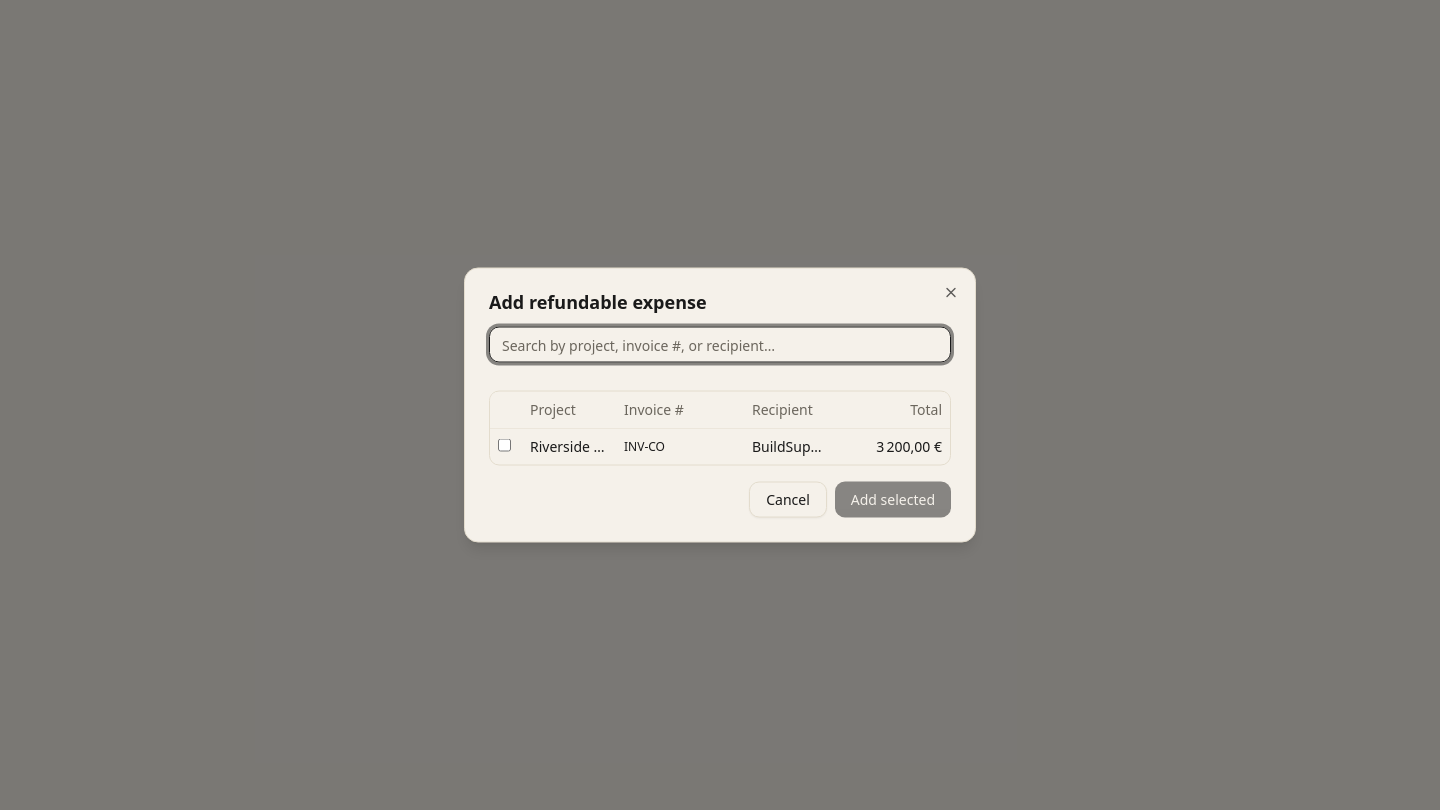
Scenario: AddRefundableExpenseDialog › company-paid expense: says why, drops it from the picker, no 'try again'
Expected: the text "INV-CO" is shown, [616,428,744,464]
Click the checkbox named "INV-CO" at coordinates (504, 445), box [498,438,511,452]
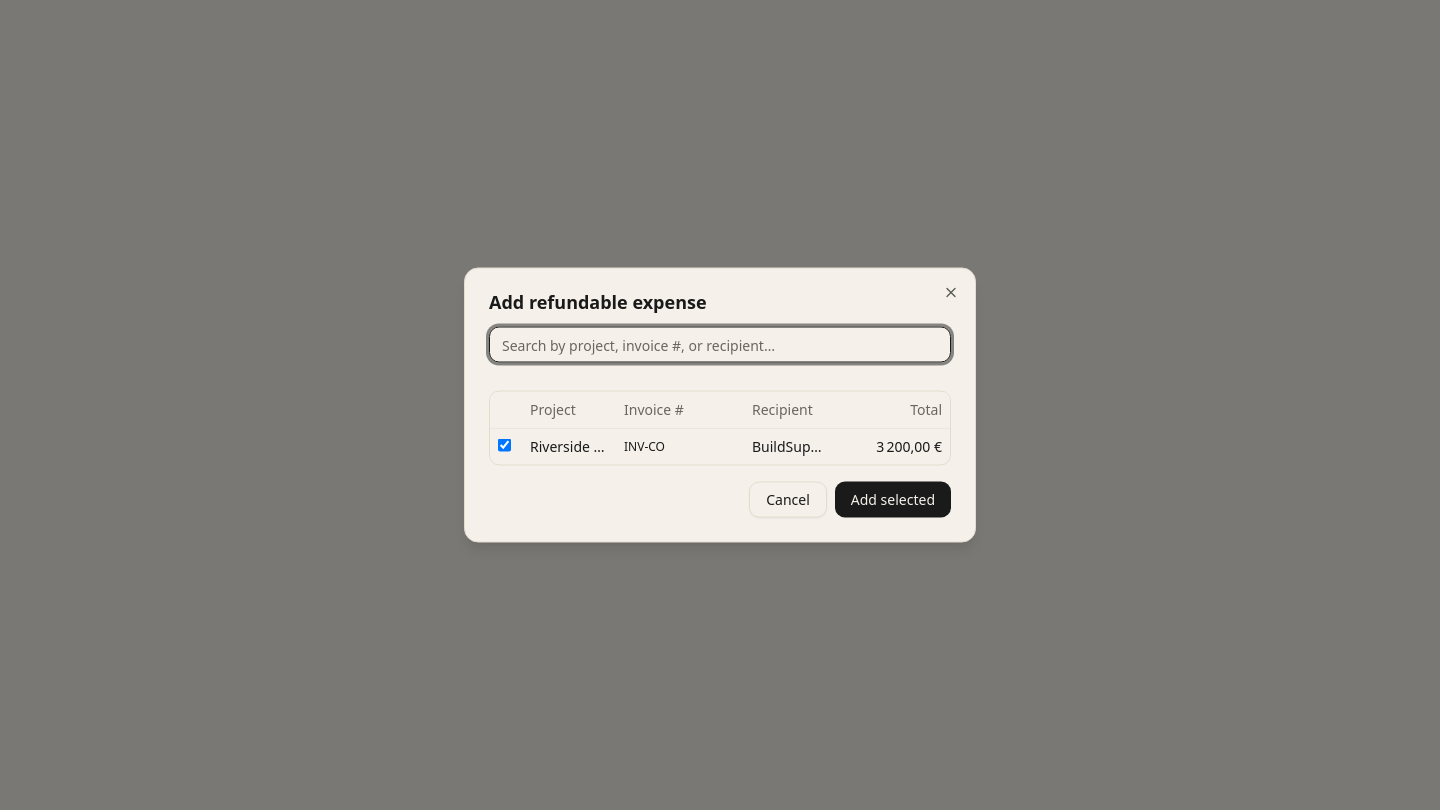
Click the button "Add selected" at coordinates (893, 500), box [835,482,951,518]
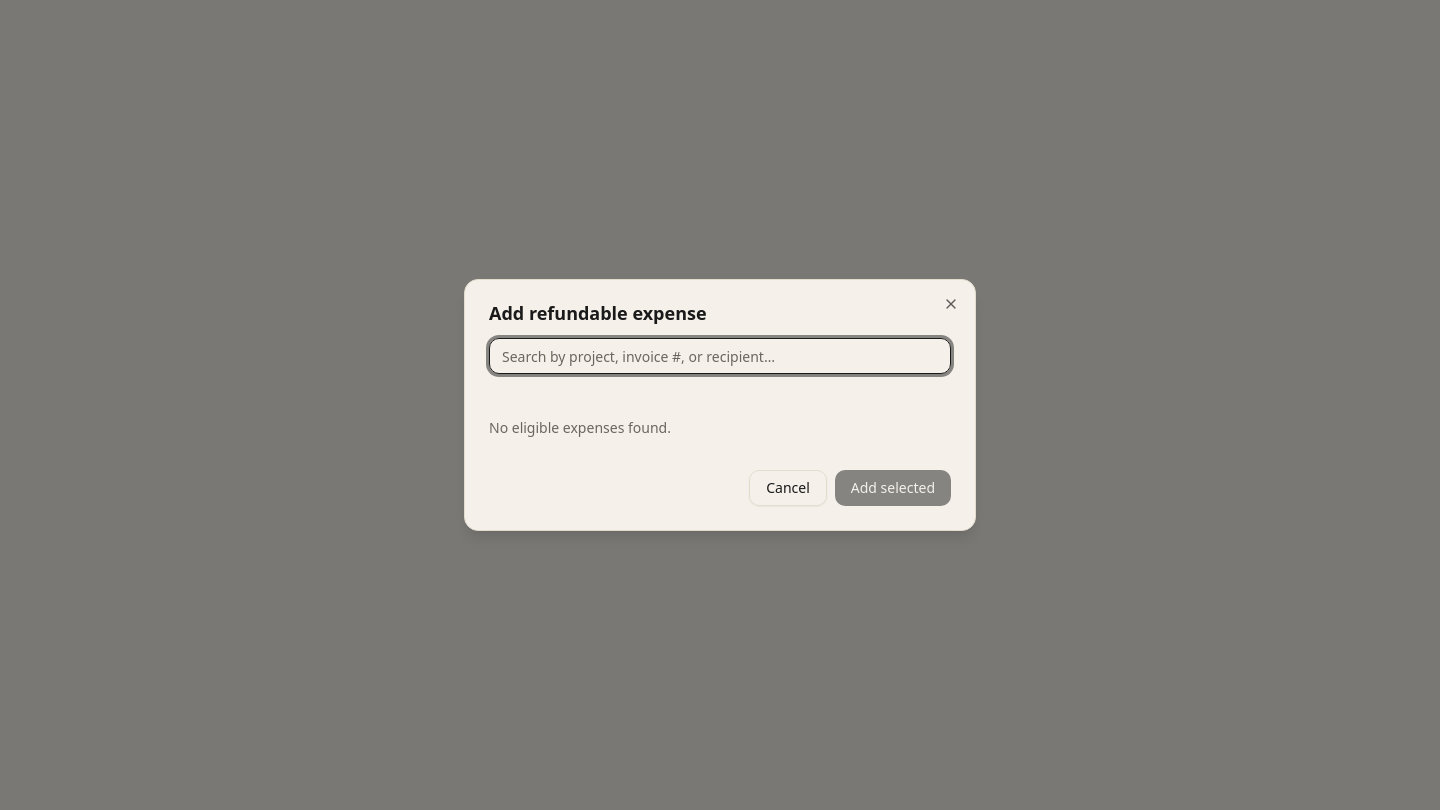
Expected: the text "INV-CO" is gone
